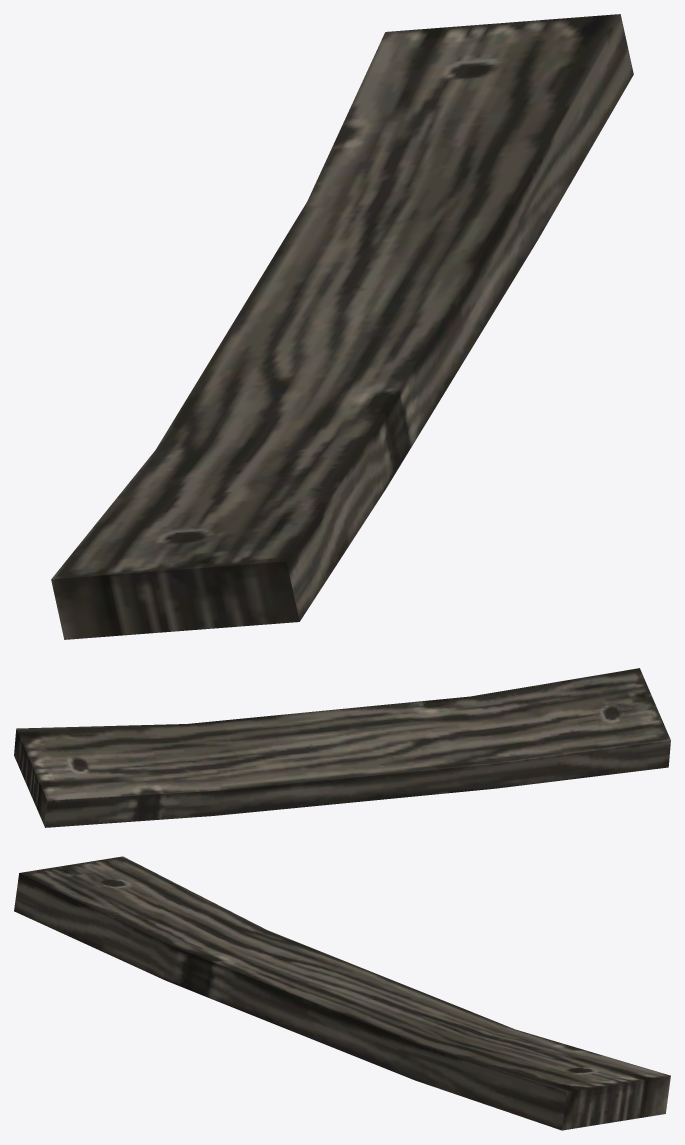
The model's file is ANIMATEDINSTANCES_BOARD_FALL2__BA.fbx.
3 renders of one model, top to bottom at view 1: azimuth 30°, elevation 25°; view 2: azimuth 150°, elevation 25°; view 3: azimuth 270°, elevation 25°, orthographic. The views are drawn at different scales.
Parts seen in each view (by area): view 1: ANIMATEDINSTANCES_BOARD_FALL2__BA; view 2: ANIMATEDINSTANCES_BOARD_FALL2__BA; view 3: ANIMATEDINSTANCES_BOARD_FALL2__BA.
Part boxes in pixels (x1,y1,x2,y2): ANIMATEDINSTANCES_BOARD_FALL2__BA: [51, 14, 633, 639]; ANIMATEDINSTANCES_BOARD_FALL2__BA: [14, 668, 670, 827]; ANIMATEDINSTANCES_BOARD_FALL2__BA: [14, 856, 670, 1130].
Size of the model in its own units: 15485 by 2085 by 15480.
Materials: 1 (1 with a texture image).
